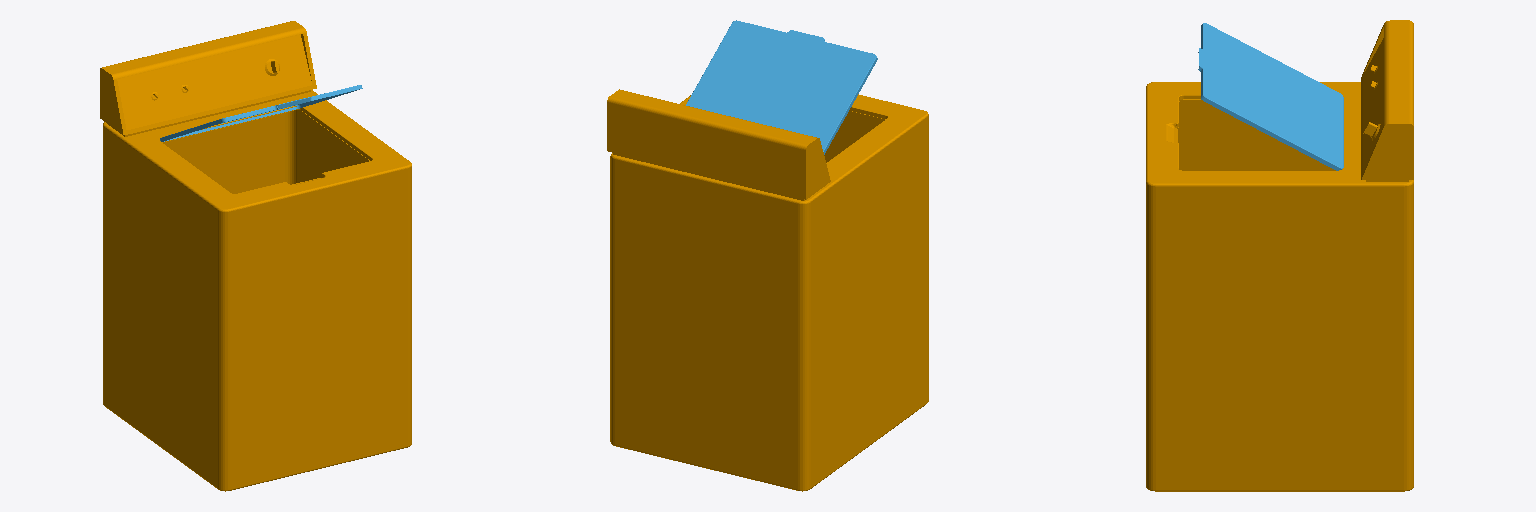
robot.urdf — washer_103776:
<?xml version="1.0"?>
<robot name="washer_103776">
  <link name="base_link">
    <inertial>
      <origin xyz="0 0 0" rpy="0 0 0"/>
      <mass value="1"/>
      <inertia ixx="0.001" ixy="0" ixz="0" iyy="0.001" iyz="0" izz="0.001"/>
    </inertial>
    <visual>
      <origin xyz="0 0 0" rpy="0 0 0"/>
      <geometry>
        <mesh filename="meshes/base_link.obj" scale="1 1 1"/>
      </geometry>
    </visual>
    <collision>
      <origin xyz="0 0 0" rpy="0 0 0"/>
      <geometry>
        <mesh filename="meshes/base_link.obj" scale="1 1 1"/>
      </geometry>
    </collision>
  </link>
  <link name="moving_link">
    <inertial>
      <origin xyz="0 0 0" rpy="0 0 0"/>
      <mass value="1"/>
      <inertia ixx="0.001" ixy="0" ixz="0" iyy="0.001" iyz="0" izz="0.001"/>
    </inertial>
    <visual>
      <origin xyz="0 -0.1994985764 -0.535525318" rpy="0 0 0"/>
      <geometry>
        <mesh filename="meshes/moving_link.obj" scale="1 1 1"/>
      </geometry>
    </visual>
    <collision>
      <origin xyz="0 -0.1994985764 -0.535525318" rpy="0 0 0"/>
      <geometry>
        <mesh filename="meshes/moving_link.obj" scale="1 1 1"/>
      </geometry>
    </collision>
  </link>
  <joint name="washer_103776_joint" type="revolute">
    <parent link="base_link"/>
    <child link="moving_link"/>
    <origin xyz="0 0.1994985764 0.535525318" rpy="0 0 0"/>
    <axis xyz="1 0 0"/>
    <limit lower="-0.5235987756" upper="0" effort="100" velocity="10"/>
  </joint>
</robot>

--- Render facts (derived) ---
3 views of the same robot in one strip: view 1: azimuth 30°, elevation 25°; view 2: azimuth 150°, elevation 25°; view 3: azimuth 270°, elevation 25° (orthographic).
Robot: washer_103776 — 2 links, 1 joints (1 revolute); root link base_link; default pose: all joints at 0.
Visible links, largest first — view 1: base_link, moving_link; view 2: base_link, moving_link; view 3: base_link, moving_link.
Boxes of the visible links, <box> form: base_link: <box>100,21,411,491</box>; moving_link: <box>160,85,362,141</box>; base_link: <box>607,89,928,491</box>; moving_link: <box>686,20,877,154</box>; base_link: <box>1146,20,1413,491</box>; moving_link: <box>1198,23,1343,170</box>.
Bounding box of the posed robot: 0.8941 × 0.9818 × 1.55 m (x, y, z).
2 mesh visuals loaded from 2 distinct referenced files (2 OBJ).
